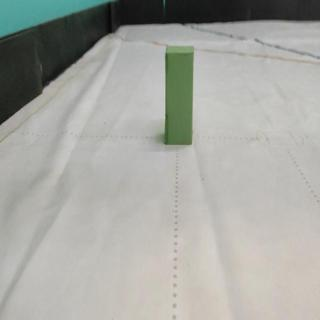greenbox: (163, 43, 196, 146)
